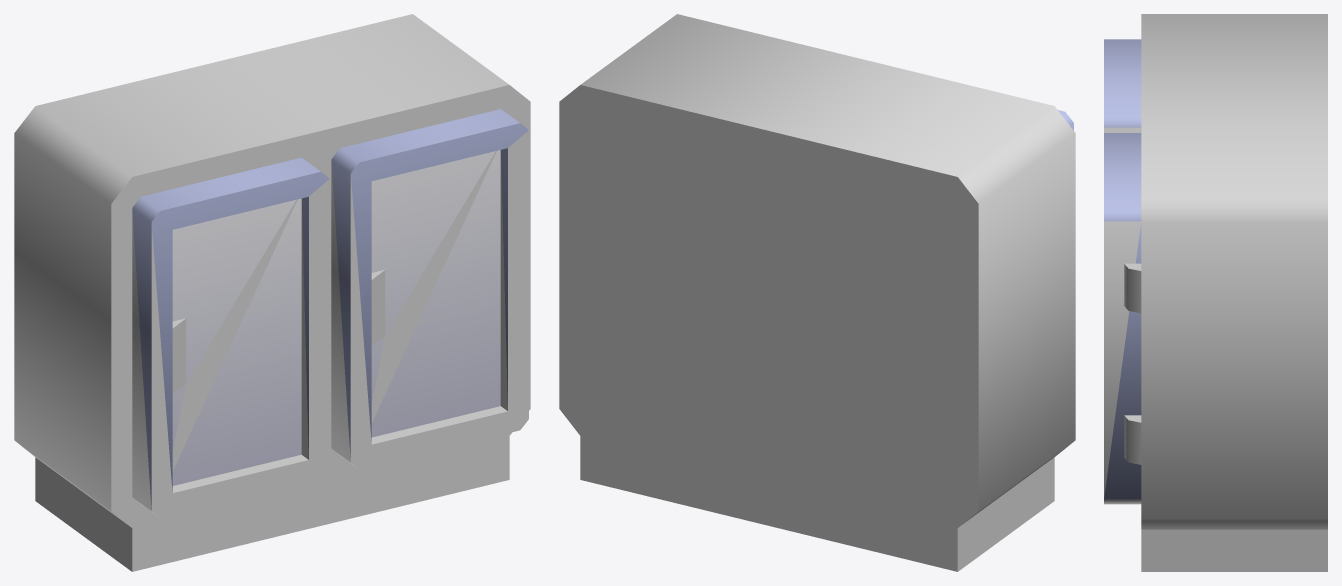
Rendered from freezers-standing-finished.glb.
3 views of the same model, side by side, from view 1: azimuth 30°, elevation 25°; view 2: azimuth 150°, elevation 25°; view 3: azimuth 270°, elevation 25° (orthographic). The views are drawn at different scales.
Parts seen in each view (by area): view 1: freezers-standing; view 2: freezers-standing; view 3: freezers-standing.
Boxes of the visible parts, bbox=[...] form: freezers-standing: bbox=[14, 14, 530, 571]; freezers-standing: bbox=[559, 14, 1075, 571]; freezers-standing: bbox=[1104, 14, 1327, 571].
Size of the model in its own units: 1 by 0.9 by 0.48.
Materials: 2 (1 with a texture image).
